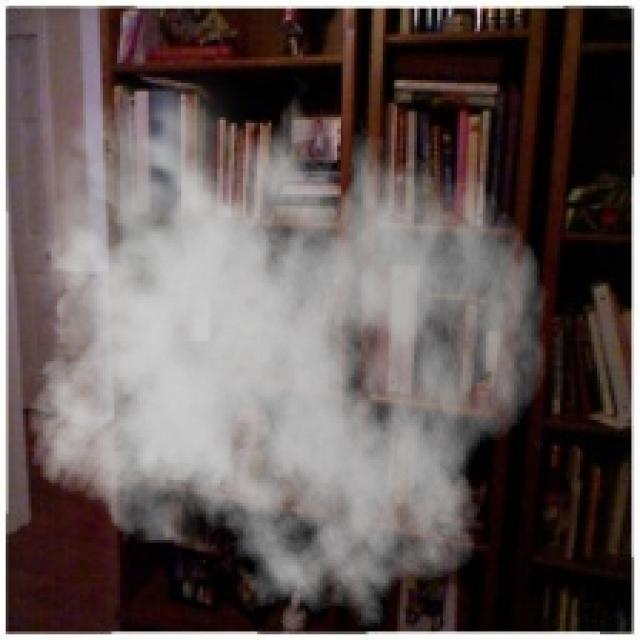smoke: (11, 60, 548, 629)
